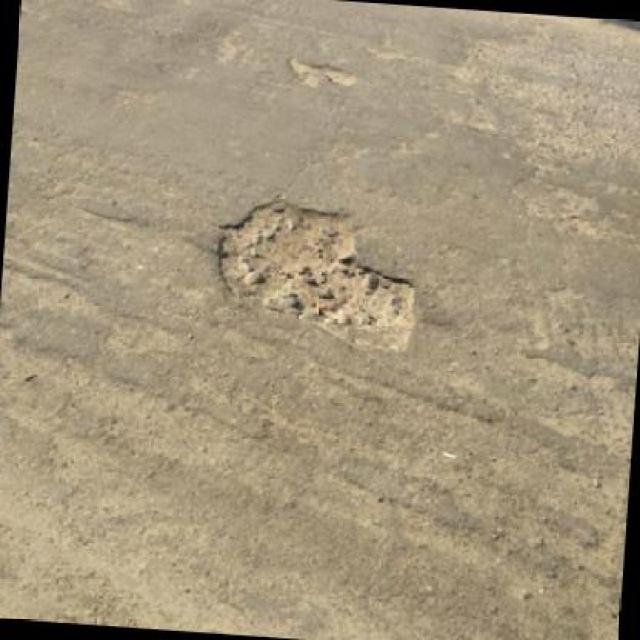pothole: (210, 186, 432, 352), (282, 56, 361, 87)
